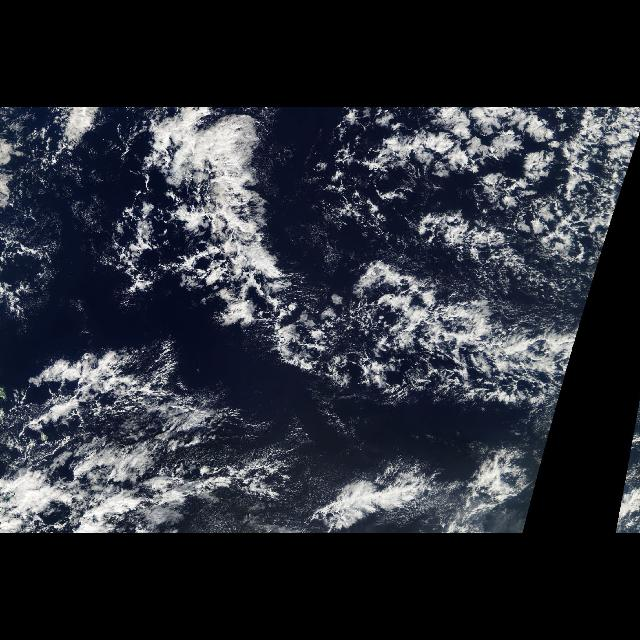Fish: (24, 111, 608, 461)
Flower: (338, 110, 630, 290)
